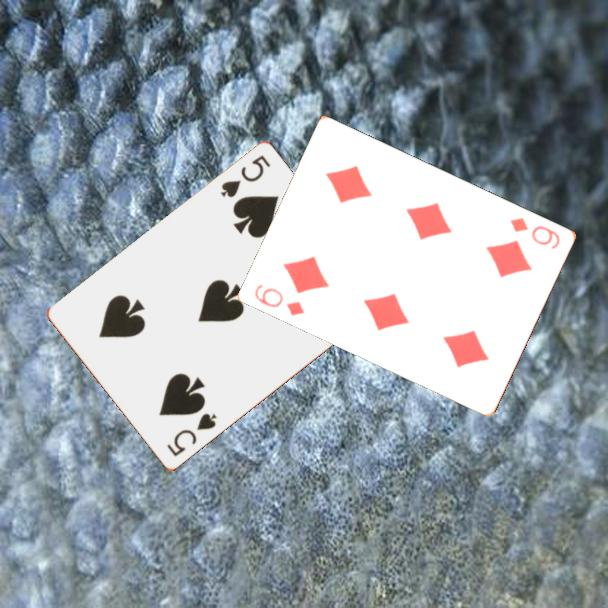d06: (507, 213, 563, 252), (251, 281, 308, 319)
s05: (163, 410, 220, 460), (217, 152, 273, 201)
